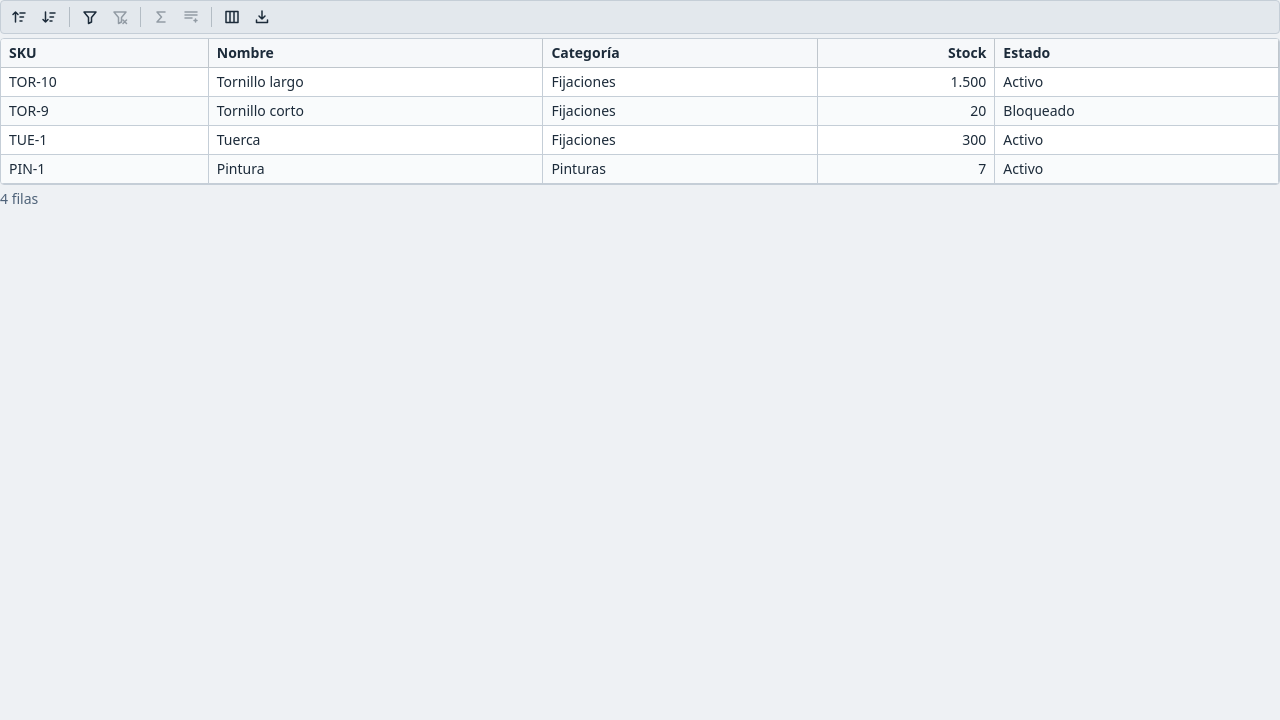
Scenario: DataGrid en modo local › no permite dejar la disposición sin columnas visibles
What coordinates should you click on to do the following:
click the button named "Modificar disposición"
I would click on:
 (232, 17)
Its box is [218,3,246,31].
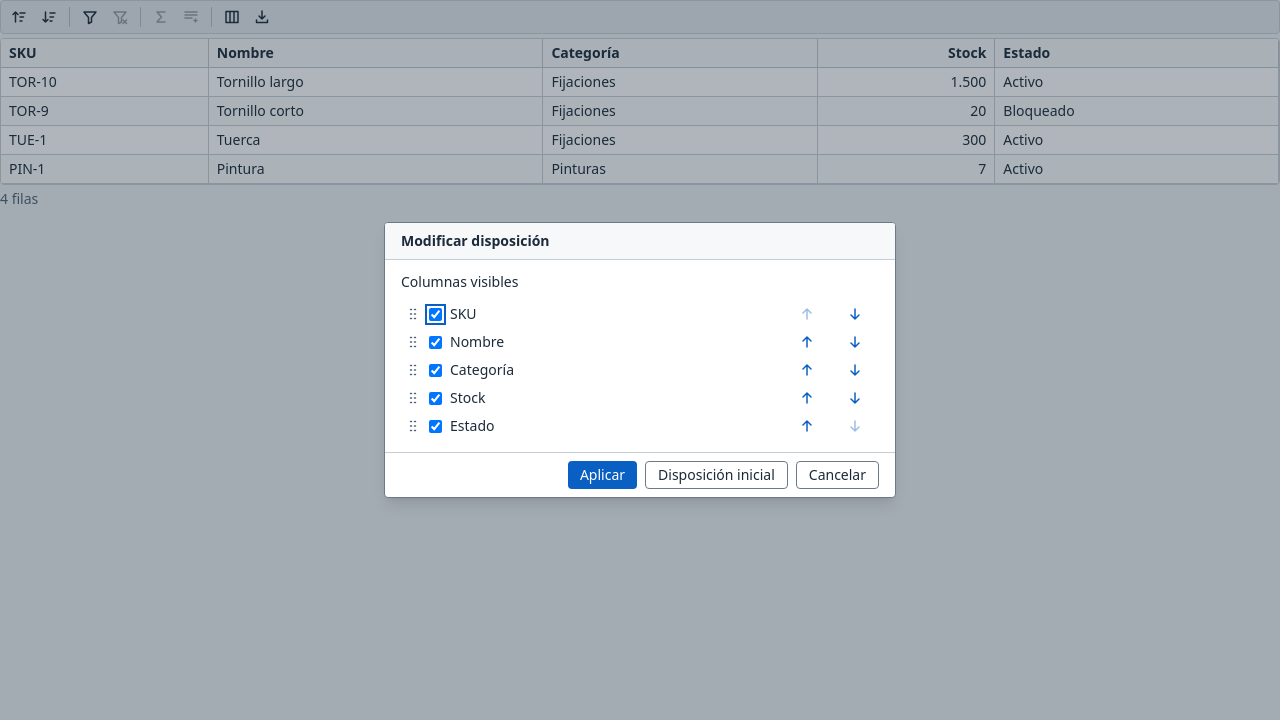
What coordinates should you click on to do the following:
click the checkbox labelled "SKU"
I would click on:
 (436, 314)
Its box is [429,308,442,320].
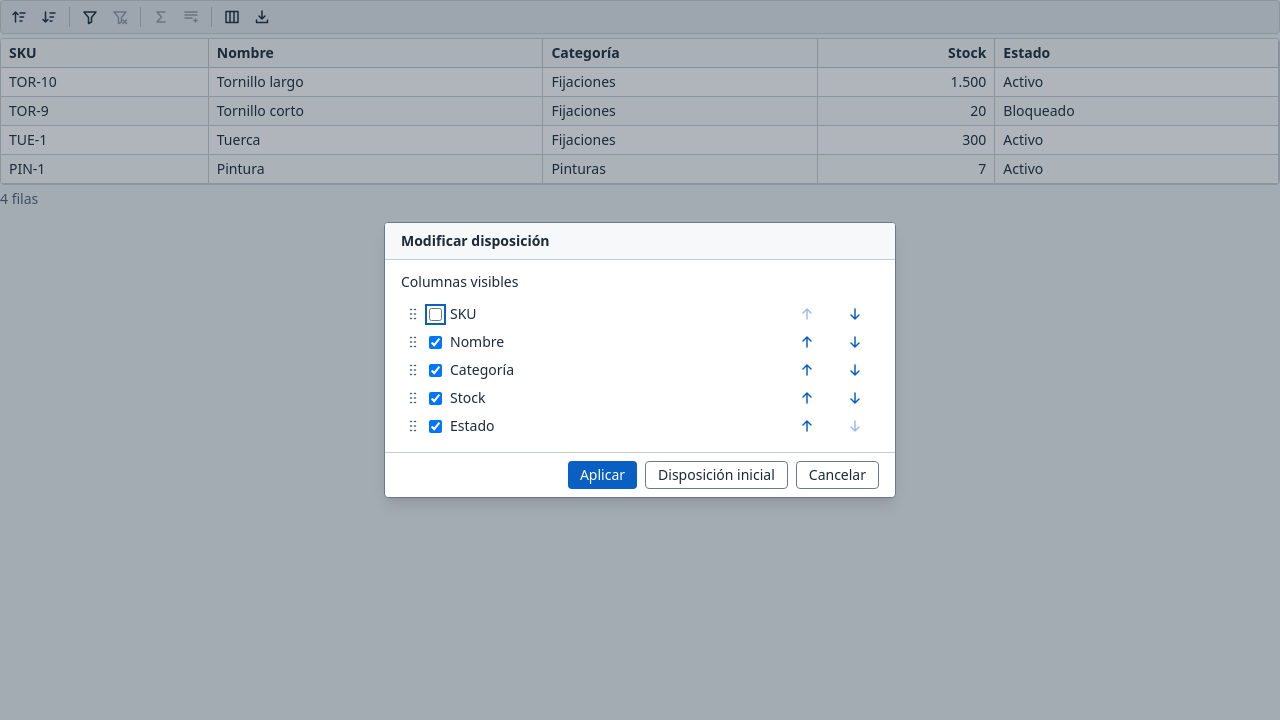
What coordinates should you click on to do the following:
click the checkbox labelled "Nombre"
I would click on:
 (436, 342)
Its box is [429,336,442,348].
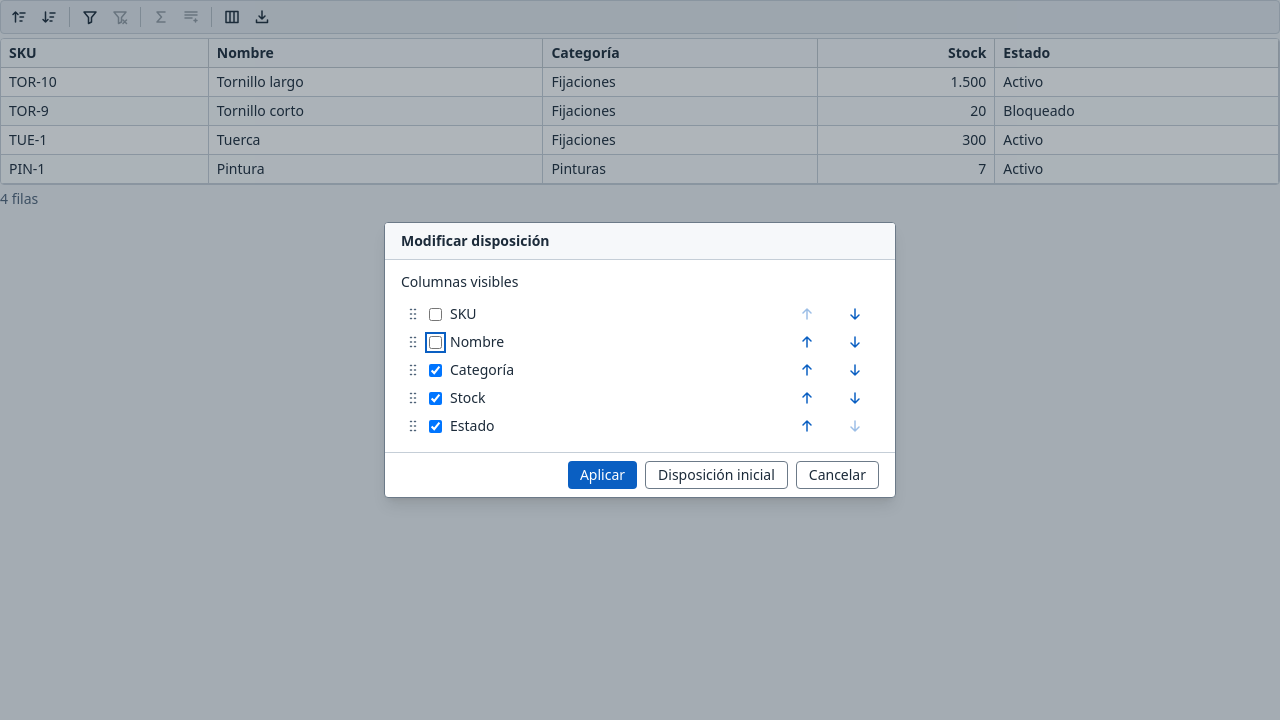
What coordinates should you click on to do the following:
click the checkbox labelled "Categoría"
I would click on:
 (436, 370)
Its box is [429,364,442,376].
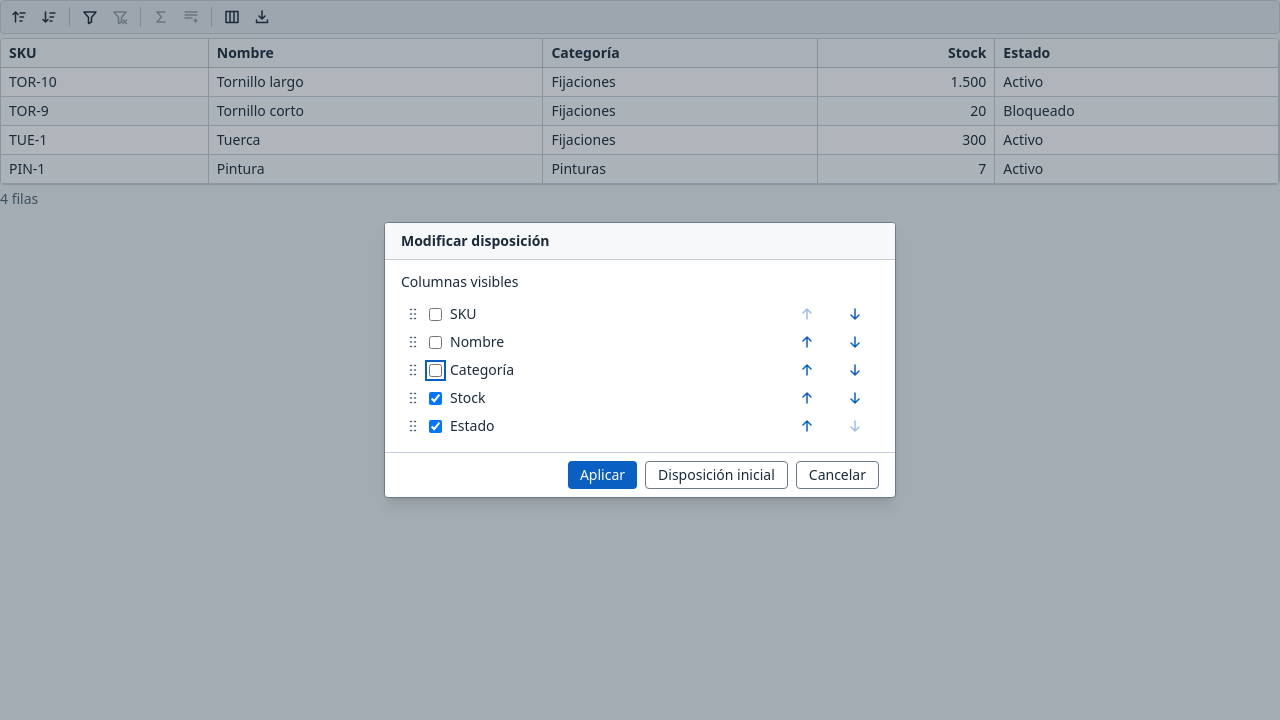
What coordinates should you click on to do the following:
click the checkbox labelled "Stock"
I would click on:
 (436, 398)
Its box is [429,392,442,404].
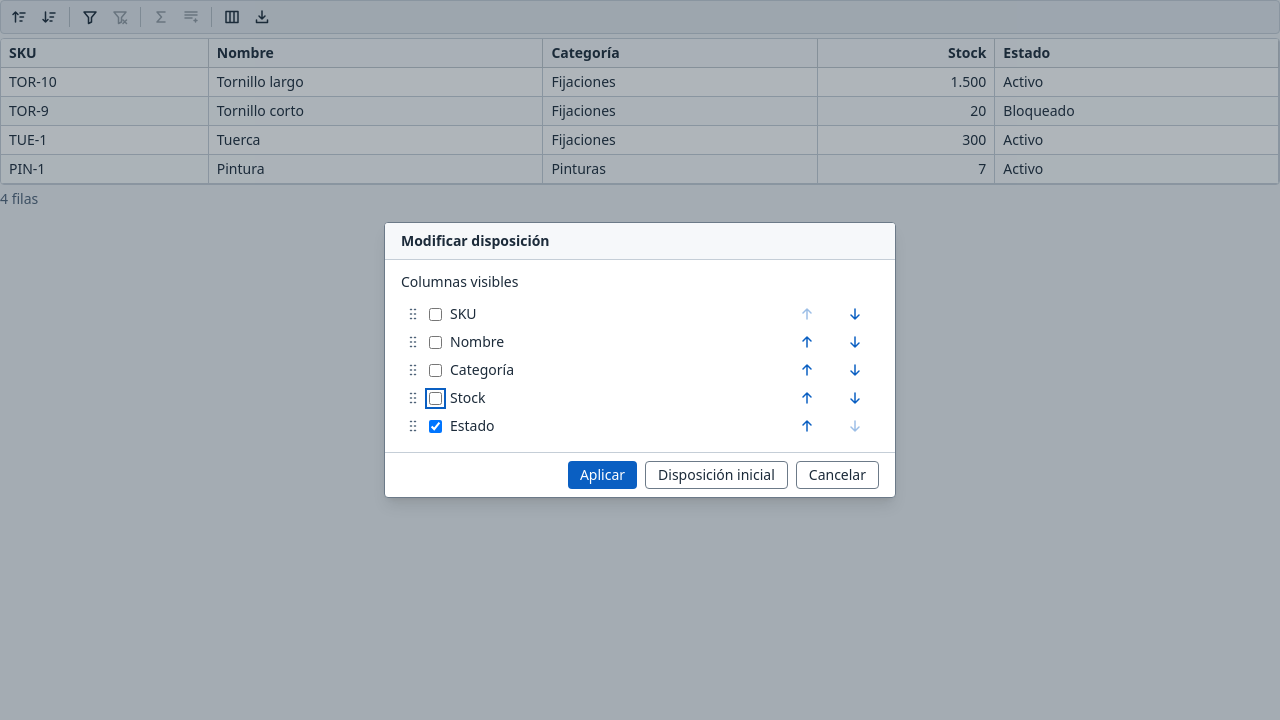
What coordinates should you click on to do the following:
click the checkbox labelled "Estado"
I would click on:
 (436, 426)
Its box is [429,420,442,432].
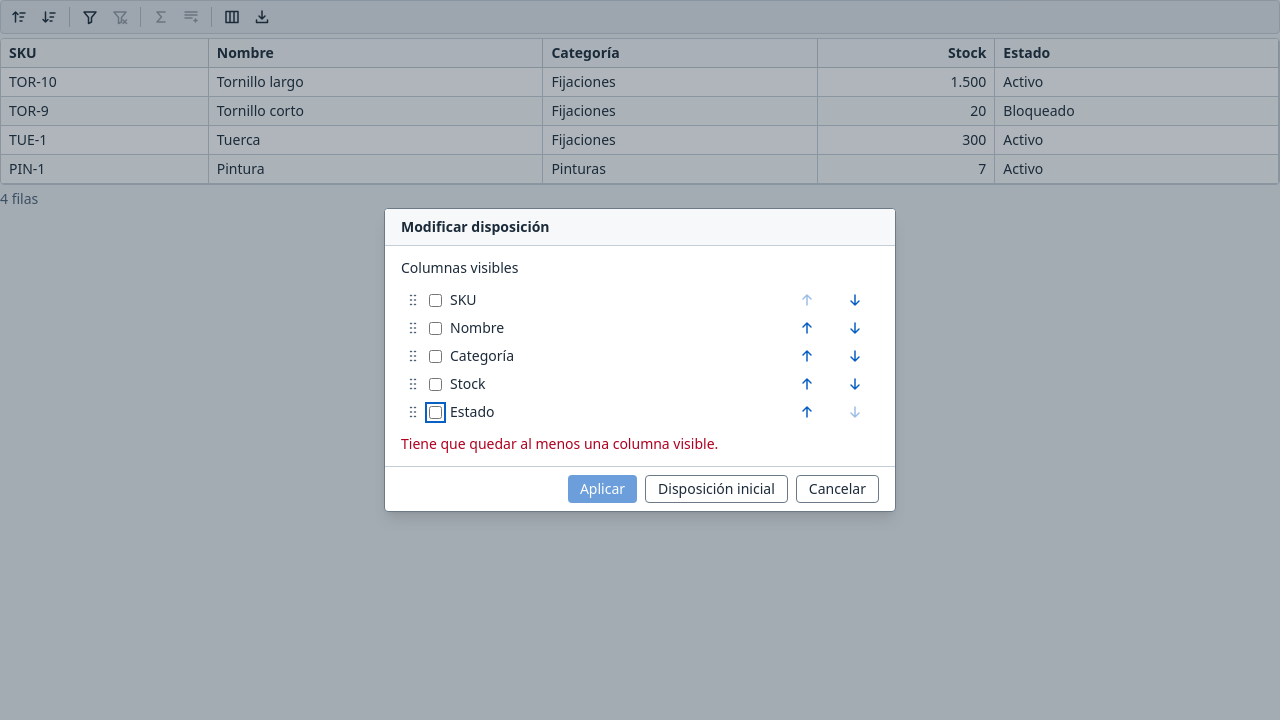
Check: the message reads "Tiene que quedar al menos una columna visible.", box [401,434,718,453]
Check: the button "Aplicar" is disabled, box [568,475,637,503]
